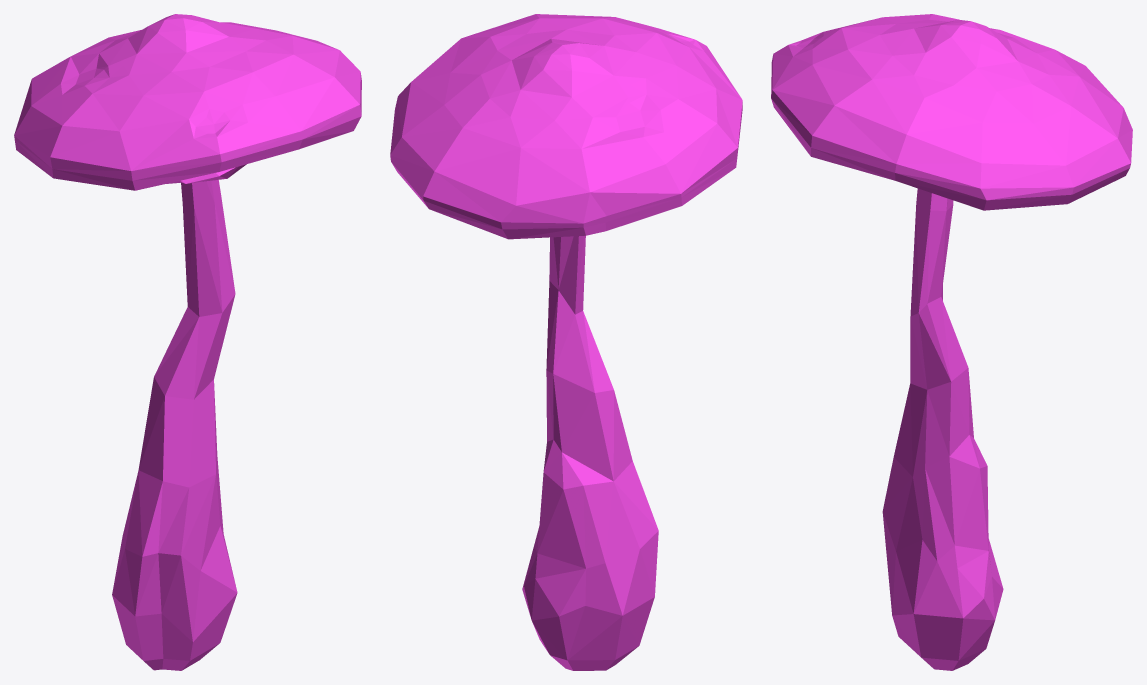
File: SM_Mushroom_Slim_Big_E_Fantasy.fbx
3 renders of one model, left to right at view 1: azimuth 30°, elevation 25°; view 2: azimuth 150°, elevation 25°; view 3: azimuth 270°, elevation 25°, orthographic. The views are drawn at different scales.
Parts seen in each view (by area): view 1: SM_Mushroom_Slim_Big_E_Fantasy; view 2: SM_Mushroom_Slim_Big_E_Fantasy; view 3: SM_Mushroom_Slim_Big_E_Fantasy.
Part boxes in pixels (box(x1,y1,x2,y2)): SM_Mushroom_Slim_Big_E_Fantasy: box(14, 14, 361, 670); SM_Mushroom_Slim_Big_E_Fantasy: box(390, 14, 742, 670); SM_Mushroom_Slim_Big_E_Fantasy: box(771, 14, 1132, 670).
Size of the model in its own units: 3.24 by 6.24 by 3.18.
